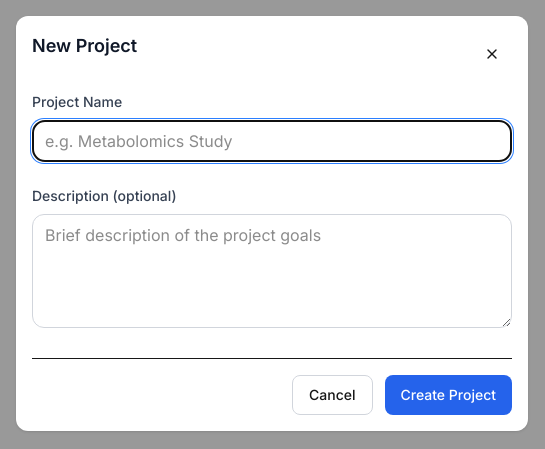
Test case: NewProjectDialog › shows loading state during submission
Step 1. Type "Test Project" into the field with placeholder "e.g. Metabolomics Study" → (272, 140), box [32,120,512,162]
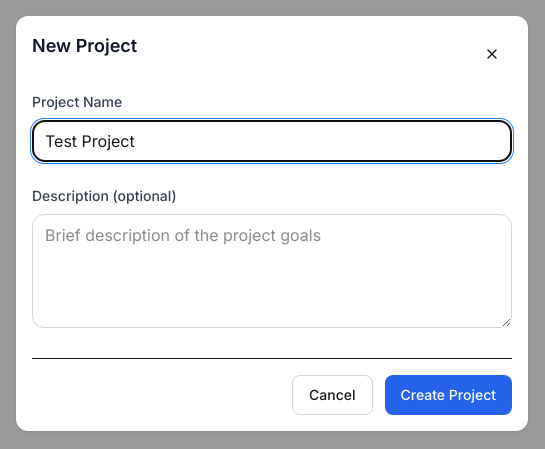
Step 2. Click the button "Create Project" → (448, 394), box [384,374,512,414]
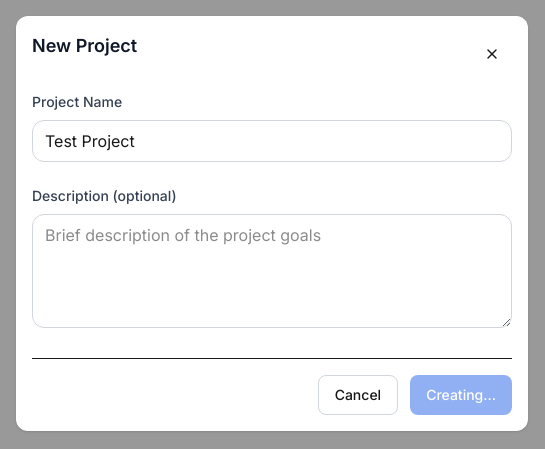
Check: the button "Creating..." is disabled, box [410,374,512,414]
